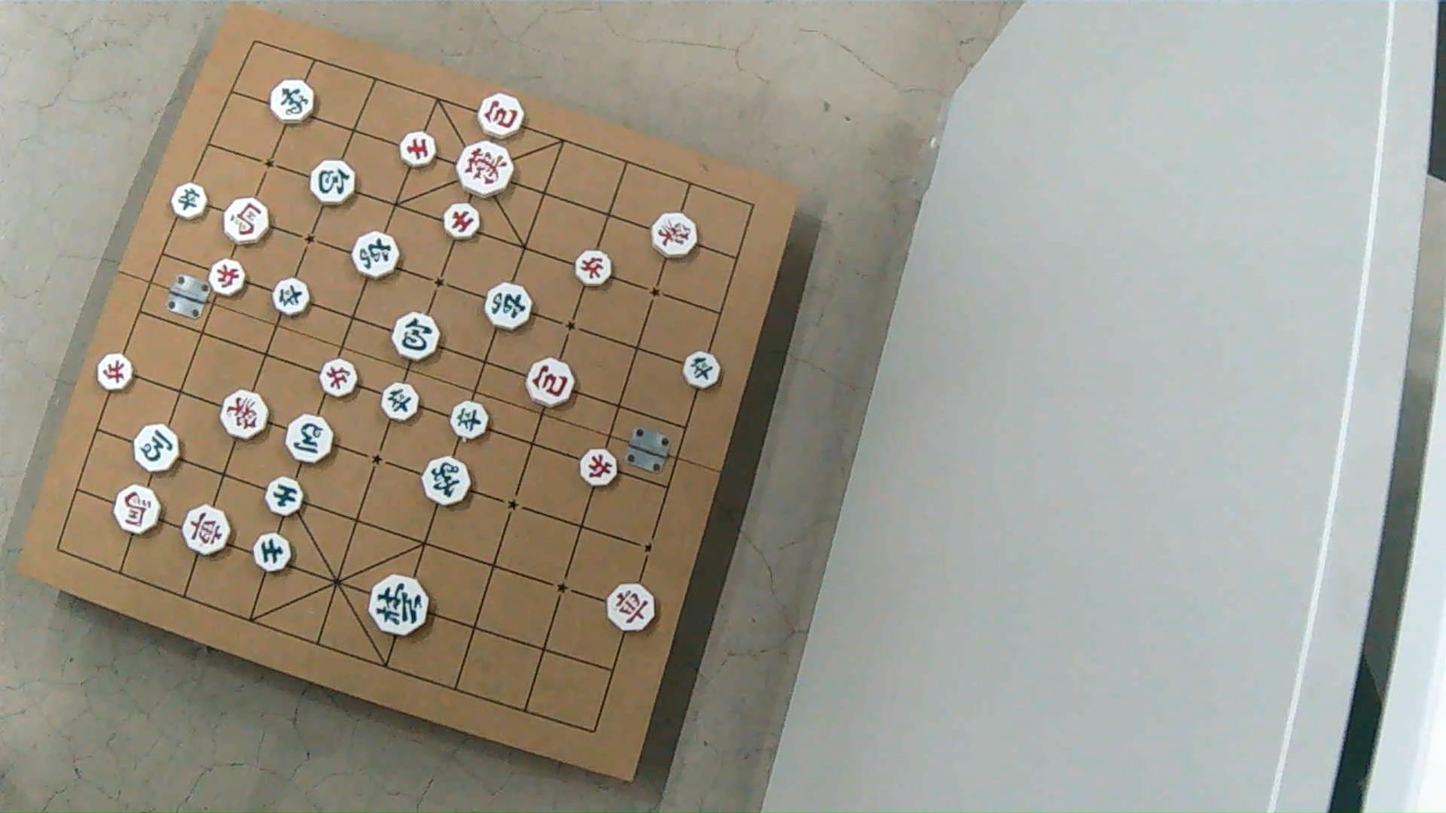cha_green: (483, 284, 531, 330), (355, 233, 401, 279)
cha_red: (608, 585, 657, 632), (183, 505, 230, 554)
jol_green: (453, 403, 490, 441), (382, 383, 419, 420), (685, 352, 723, 388), (273, 278, 310, 314), (170, 182, 206, 218)
jol_red: (319, 357, 358, 396), (578, 449, 617, 488), (576, 251, 614, 288), (101, 353, 137, 391), (211, 260, 247, 297)
ma_green: (287, 416, 334, 464), (135, 425, 180, 472)
ma_red: (117, 486, 163, 534), (223, 198, 268, 245)
po_green: (392, 314, 439, 361), (310, 160, 355, 204)
po_red: (527, 358, 575, 406), (477, 95, 522, 139)
sa_green: (268, 477, 306, 516), (252, 533, 288, 571)
sa_red: (399, 130, 435, 166), (444, 205, 480, 240)
sang_green: (422, 457, 469, 506), (268, 80, 313, 123)
sang_red: (221, 390, 268, 439), (649, 214, 695, 258)
wang_green: (370, 574, 429, 634)
wang_red: (459, 142, 514, 198)
